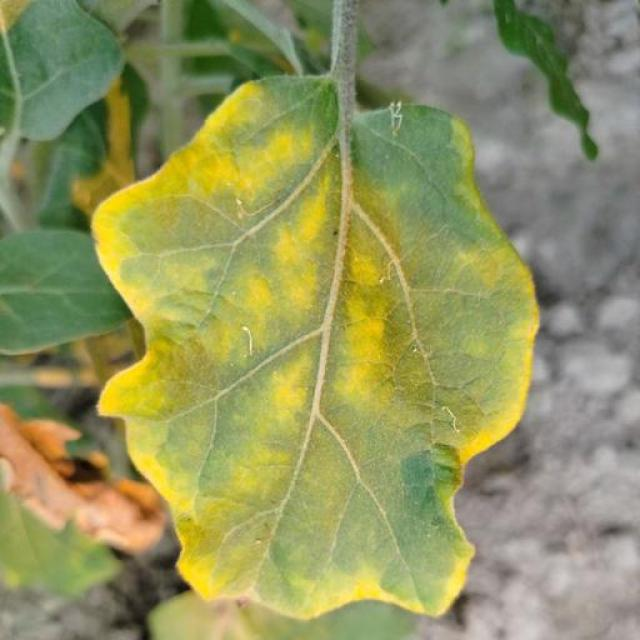leaf_spot: (318, 253, 445, 449), (250, 231, 414, 380), (424, 346, 564, 517), (257, 288, 385, 472), (135, 178, 300, 296), (431, 111, 534, 277), (0, 479, 113, 617), (218, 497, 325, 640), (120, 124, 279, 216), (194, 331, 314, 452), (90, 310, 212, 429), (443, 246, 557, 365), (308, 149, 412, 270), (66, 79, 140, 226), (146, 484, 234, 606), (113, 413, 190, 511), (291, 563, 407, 628), (96, 257, 187, 333), (391, 556, 482, 627), (212, 262, 282, 354), (268, 167, 344, 246), (136, 246, 224, 309), (196, 68, 266, 147), (435, 473, 490, 570), (80, 202, 150, 274), (225, 432, 293, 495), (252, 121, 319, 178), (296, 17, 338, 65), (0, 0, 39, 50), (224, 24, 259, 50)
